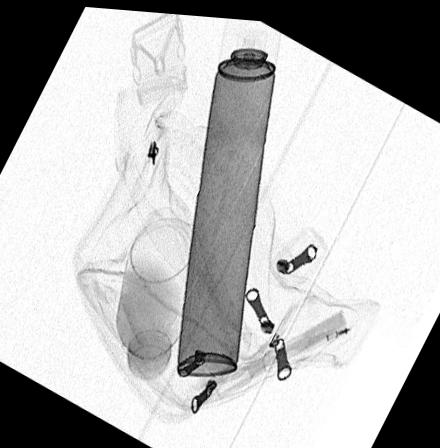Sprayer: (178, 15, 281, 373)
